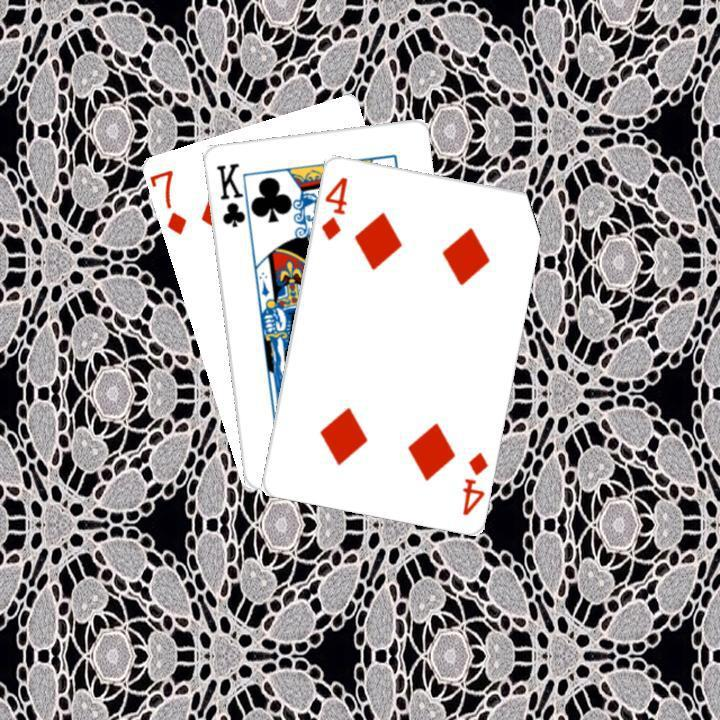4: (316, 172, 349, 242), (457, 447, 490, 517)
7: (147, 165, 188, 237)
K: (212, 158, 254, 234)
